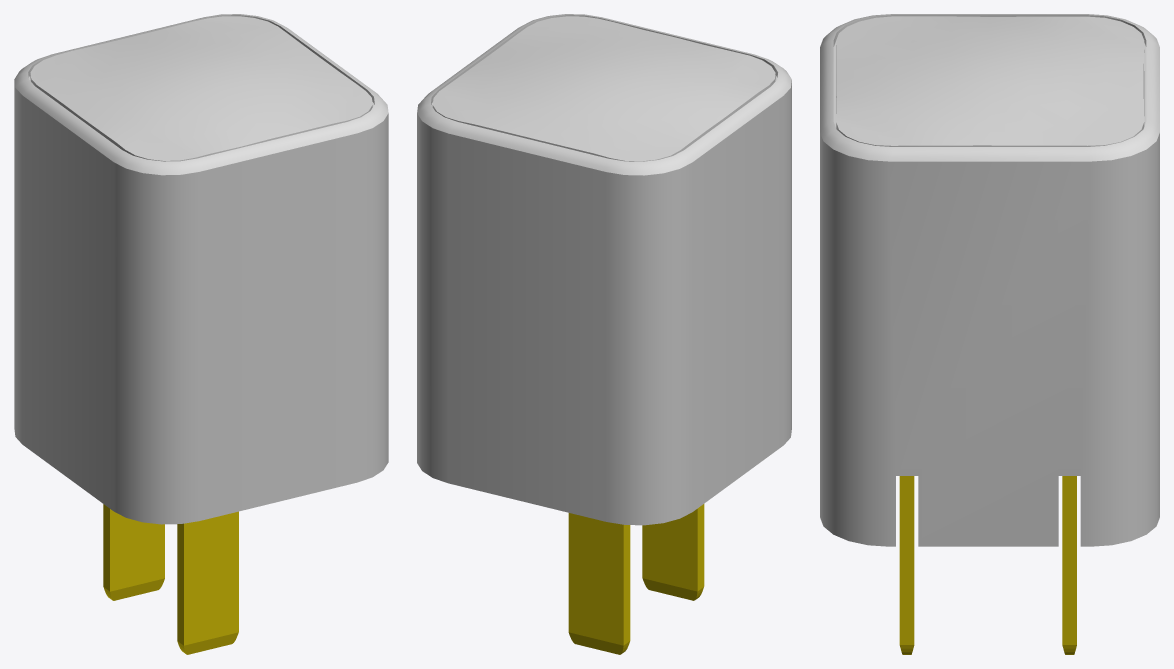
Rendered from ANKER.fbx.
The picture shows the model from 3 angles, left to right: view 1: azimuth 30°, elevation 25°; view 2: azimuth 150°, elevation 25°; view 3: azimuth 270°, elevation 25°; orthographic projection. The views are drawn at different scales.
Parts seen in each view (by area): view 1: 立方体, 上端, 插电铁片; view 2: 立方体, 上端, 插电铁片; view 3: 立方体, 上端, 插电铁片.
Part boxes in pixels (left/top/right/bottom): 立方体: left=14, top=14, right=388, bottom=524; 上端: left=30, top=16, right=372, bottom=161; 插电铁片: left=103, top=504, right=238, bottom=654; 立方体: left=417, top=14, right=791, bottom=525; 上端: left=432, top=16, right=775, bottom=161; 插电铁片: left=568, top=504, right=704, bottom=654; 立方体: left=820, top=14, right=1159, bottom=546; 上端: left=836, top=16, right=1144, bottom=146; 插电铁片: left=899, top=476, right=1076, bottom=654.
Size of the model in its own units: 200 by 385 by 200.
